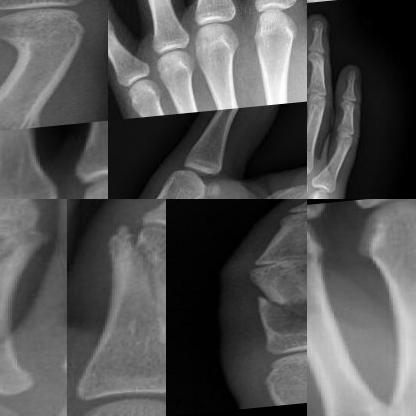fracture: (105, 216, 165, 344), (271, 291, 306, 343), (307, 188, 335, 198)
